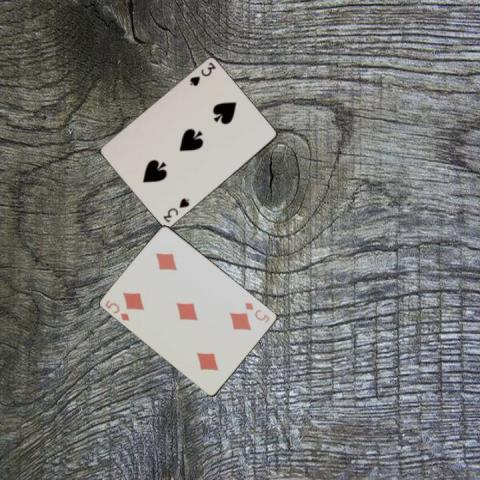3s: (160, 195, 191, 224), (186, 59, 216, 88)
5d: (242, 299, 271, 325), (102, 297, 131, 322)
